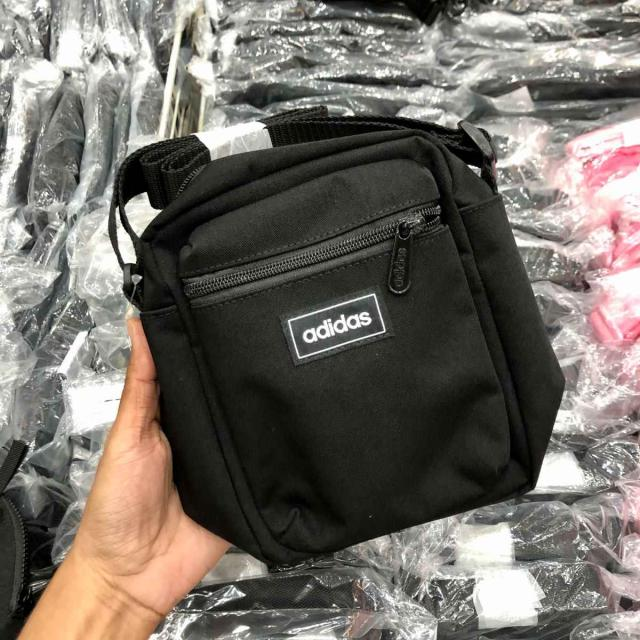Handbag: (146, 87, 555, 565)
